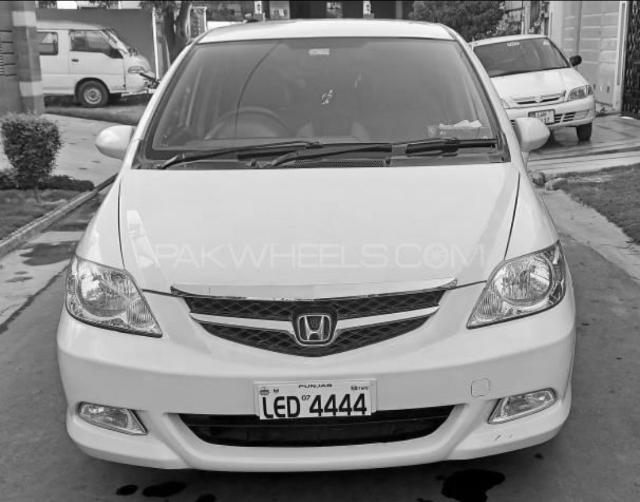Number: (258, 394, 372, 418)
